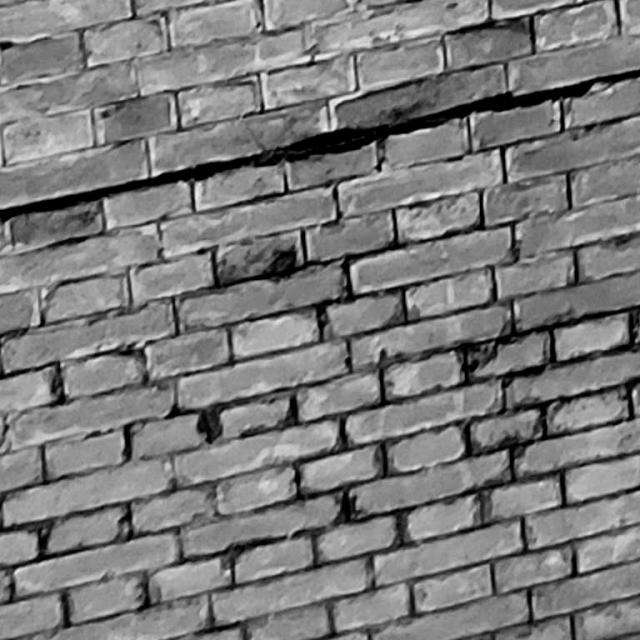crack: (1, 68, 639, 222)
